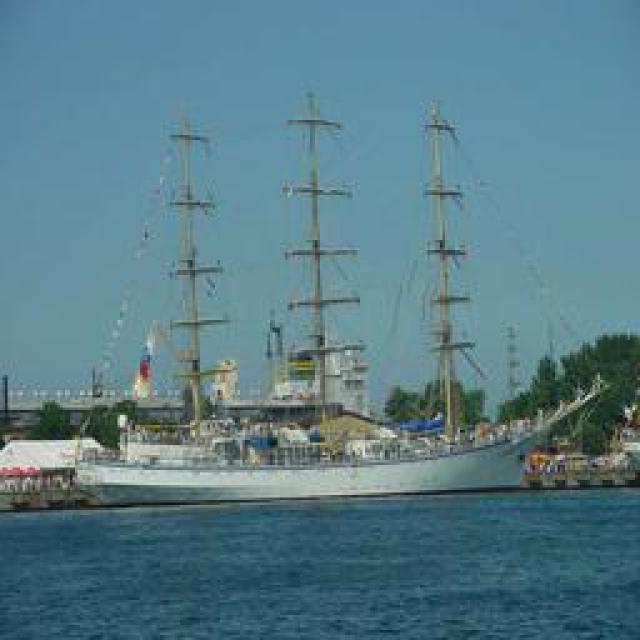Ship: (41, 99, 601, 494)
